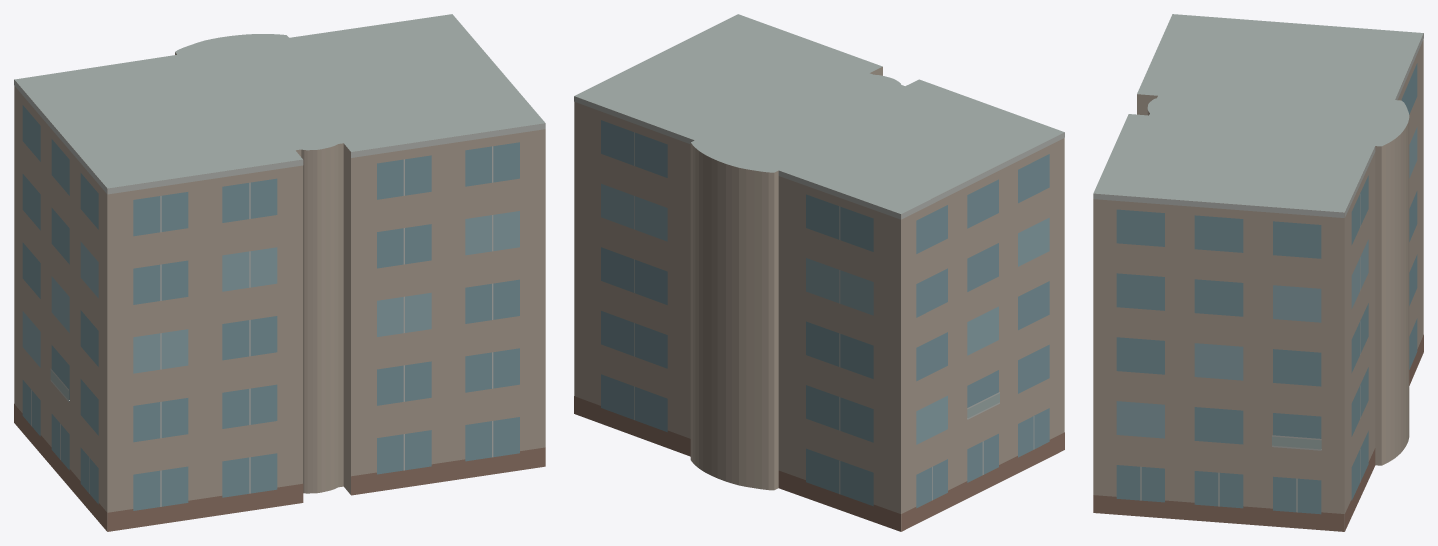
The model's file is survey-upis-32706196.glb.
3 renders of one model, left to right at view 1: azimuth 30°, elevation 25°; view 2: azimuth 150°, elevation 25°; view 3: azimuth 270°, elevation 25°, orthographic. The views are drawn at different scales.
Parts seen in each view (by area): view 1: survey-upis-32706196.tmp; view 2: survey-upis-32706196.tmp; view 3: survey-upis-32706196.tmp.
Boxes of the visible parts, box(x1,y1,x2,y2) form: survey-upis-32706196.tmp: box(14, 14, 545, 531); survey-upis-32706196.tmp: box(574, 14, 1064, 531); survey-upis-32706196.tmp: box(1093, 14, 1423, 531).
Bounding box in the file's own units: 18.82 × 14.1 × 13.23.
